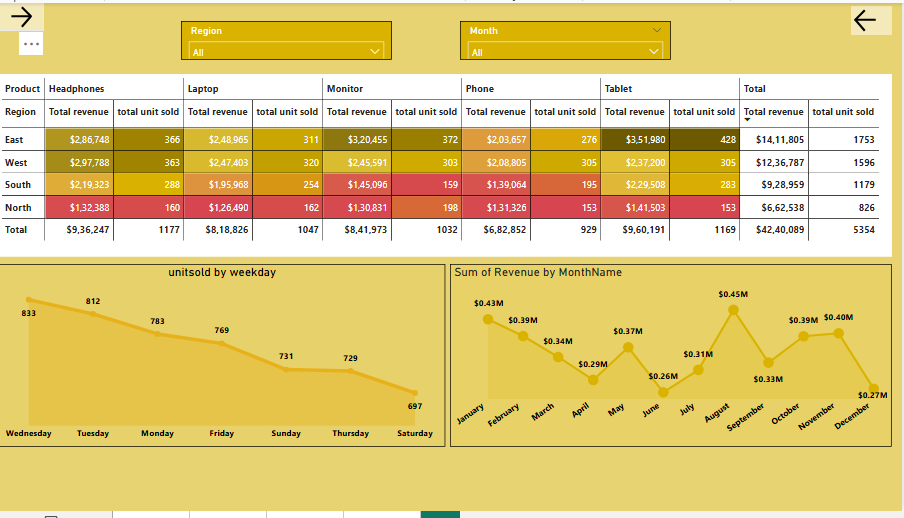

What the dashboard file says about the page in this screenshot:
{"tool":"powerbi","page":{"name":"Page 2","canvas":[1280,720],"ordinal":1},"visuals":[{"type":"pivotTable","fields":{"Values":["Customers.Total revenue","Customers.total unit sold"],"Columns":["Products.Product"],"Rows":["Customers.Region"]},"box":[0,100.6,1267.1,259.4],"z":0},{"type":"slicer","fields":{"Values":["Date.MonthName"]},"box":[654.8,25.5,299.1,55.3],"z":1000},{"type":"lineChart","title":"unitsold by weekday","fields":{"Category":["Date.Weekday"],"Y":["Sum(Sales.UnitsSold)"]},"box":[0,369.9,633.5,259.4],"z":2000},{"type":"slicer","fields":{"Values":["Customers.Region"]},"box":[259.4,25.5,299.1,55.3],"z":3000},{"type":"lineChart","fields":{"Category":["Date.MonthName"],"Y":["Sum(Sales.Revenue)"]},"box":[640.6,369.9,626.5,259.4],"z":5000},{"type":"actionButton","box":[0,0,65.2,39.7],"z":6000},{"type":"actionButton","box":[1209,4.3,58.1,41.1],"z":7000}]}

Visuals, with their boxes on the page's 1280x720 design canvas (x1, y1, x2, y2). These are canvas units, not pixel positions in the 904x518 screenshot, which may show the page scaled, cropped or inside an application window:
pivotTable - Customers.Total revenue x Customers.total unit sold: (left=0, top=101, right=1267, bottom=360)
slicer - Date.MonthName: (left=655, top=26, right=954, bottom=81)
"unitsold by weekday" lineChart: (left=0, top=370, right=634, bottom=629)
slicer - Customers.Region: (left=259, top=26, right=558, bottom=81)
lineChart - Date.MonthName x Sum(Sales.Revenue): (left=641, top=370, right=1267, bottom=629)
actionButton: (left=0, top=0, right=65, bottom=40)
actionButton: (left=1209, top=4, right=1267, bottom=45)
